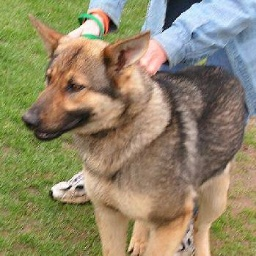dog: (22, 13, 250, 256)
